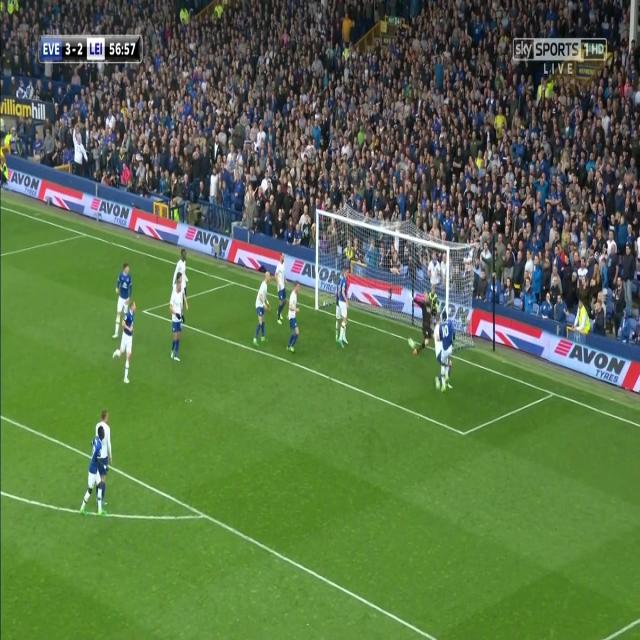Ball: (407, 336, 415, 352)
Goalkeeper: (412, 292, 436, 362)
Player: (75, 427, 105, 519), (111, 298, 137, 388), (168, 272, 188, 365), (253, 268, 273, 351), (112, 262, 132, 342), (94, 406, 114, 482), (286, 280, 302, 358), (440, 310, 454, 398), (338, 264, 352, 349), (273, 251, 287, 325), (172, 247, 190, 286)
